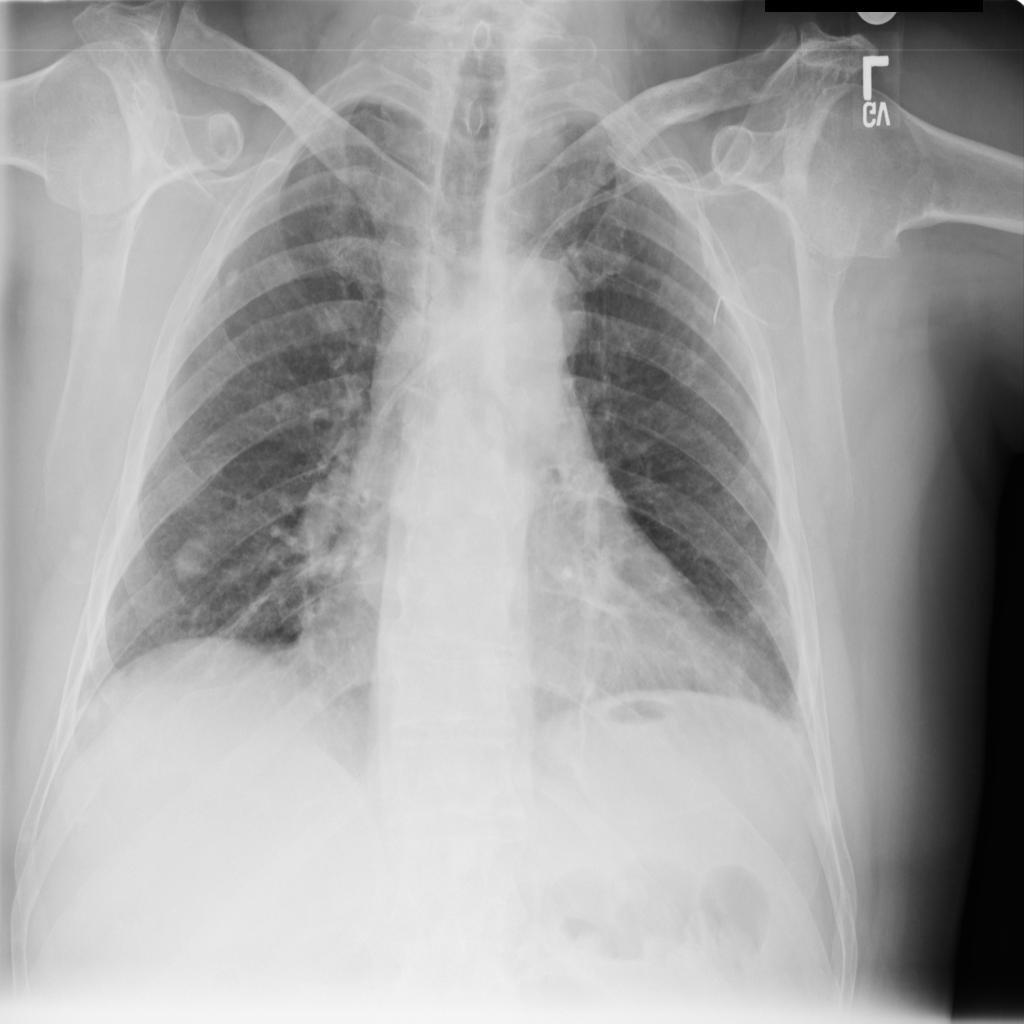nodule: (160, 521, 228, 592), (213, 257, 246, 298)
